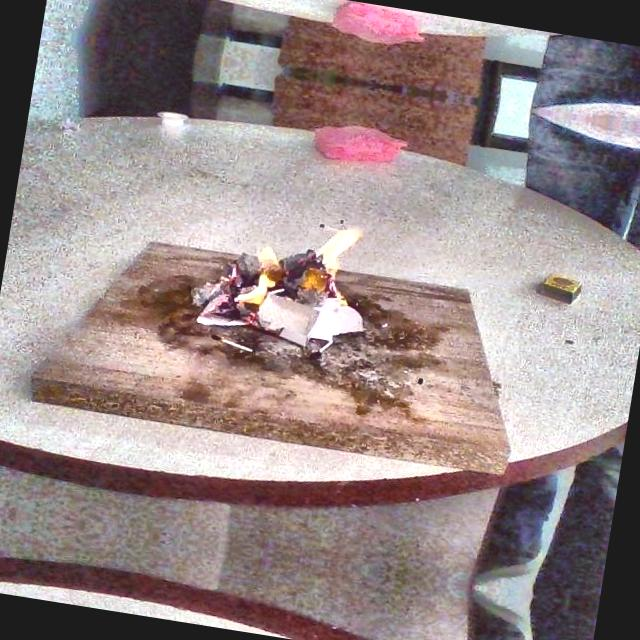fire: (218, 197, 390, 374)
